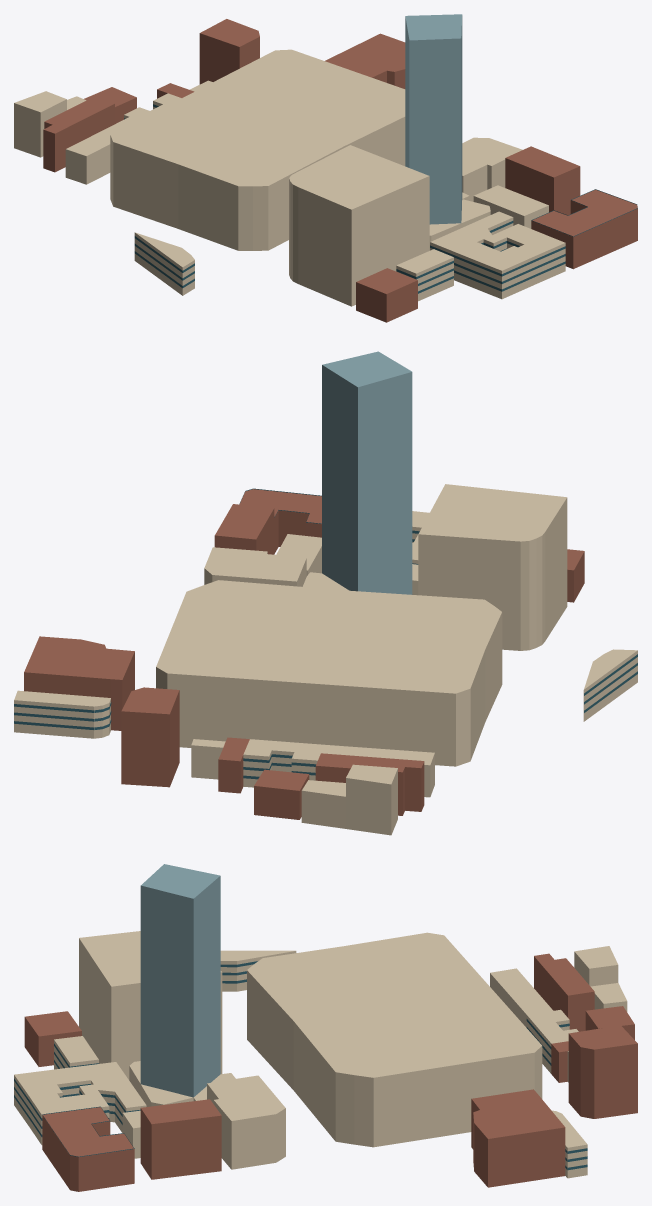
File: city_-4_0.glb
3 views of the same model, one above another, from view 1: azimuth 30°, elevation 25°; view 2: azimuth 150°, elevation 25°; view 3: azimuth 270°, elevation 25° (orthographic). The views are drawn at different scales.
Parts seen in each view (by area): view 1: city_-4_0; view 2: city_-4_0; view 3: city_-4_0.
Part boxes in pixels (x1=…): city_-4_0: x1=14, y1=14, x2=637, y2=322; city_-4_0: x1=14, y1=351, x2=637, y2=835; city_-4_0: x1=14, y1=864, x2=637, y2=1191.
Bounding box in the file's own units: 221 × 112 × 277.
